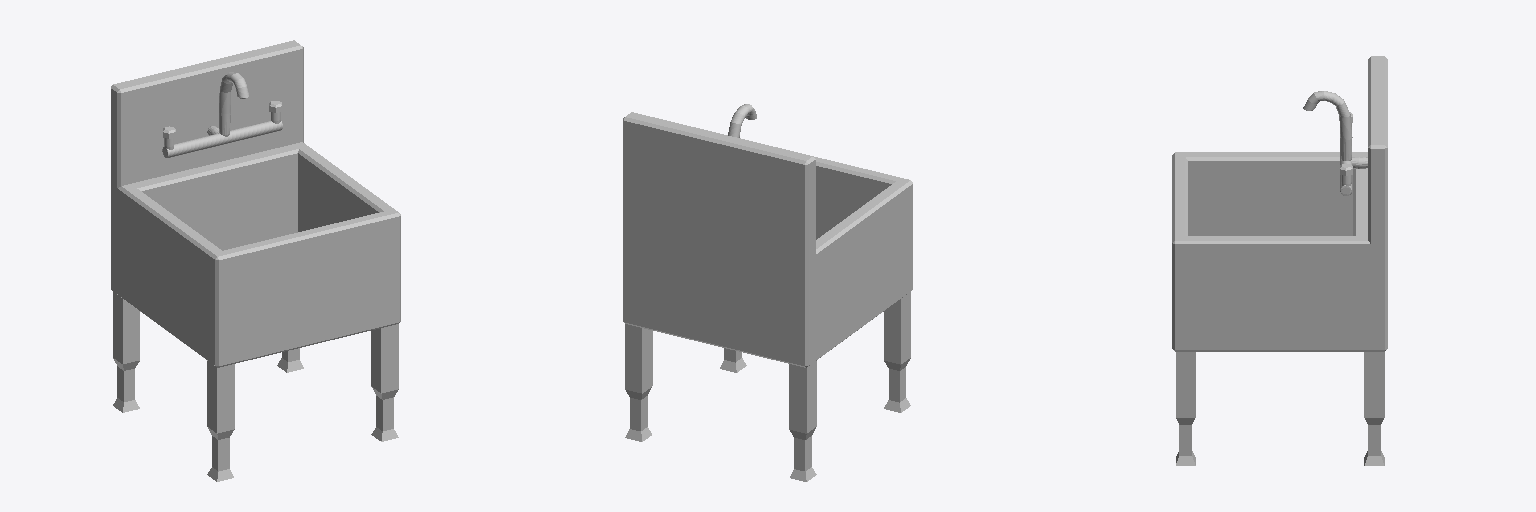
The model's file is Sink.obj.
The picture shows the model from 3 angles: view 1: azimuth 30°, elevation 25°; view 2: azimuth 150°, elevation 25°; view 3: azimuth 270°, elevation 25°; orthographic projection.
Parts seen in each view (by area): view 1: initialShadingGroup polySurface12; view 2: initialShadingGroup polySurface12; view 3: initialShadingGroup polySurface12.
Boxes of the visible parts, <box> form: initialShadingGroup polySurface12: <box>111,40,400,481</box>; initialShadingGroup polySurface12: <box>623,104,912,481</box>; initialShadingGroup polySurface12: <box>1172,56,1387,465</box>.
Bounding box in the file's own units: 5.95 × 10.12 × 5.95.